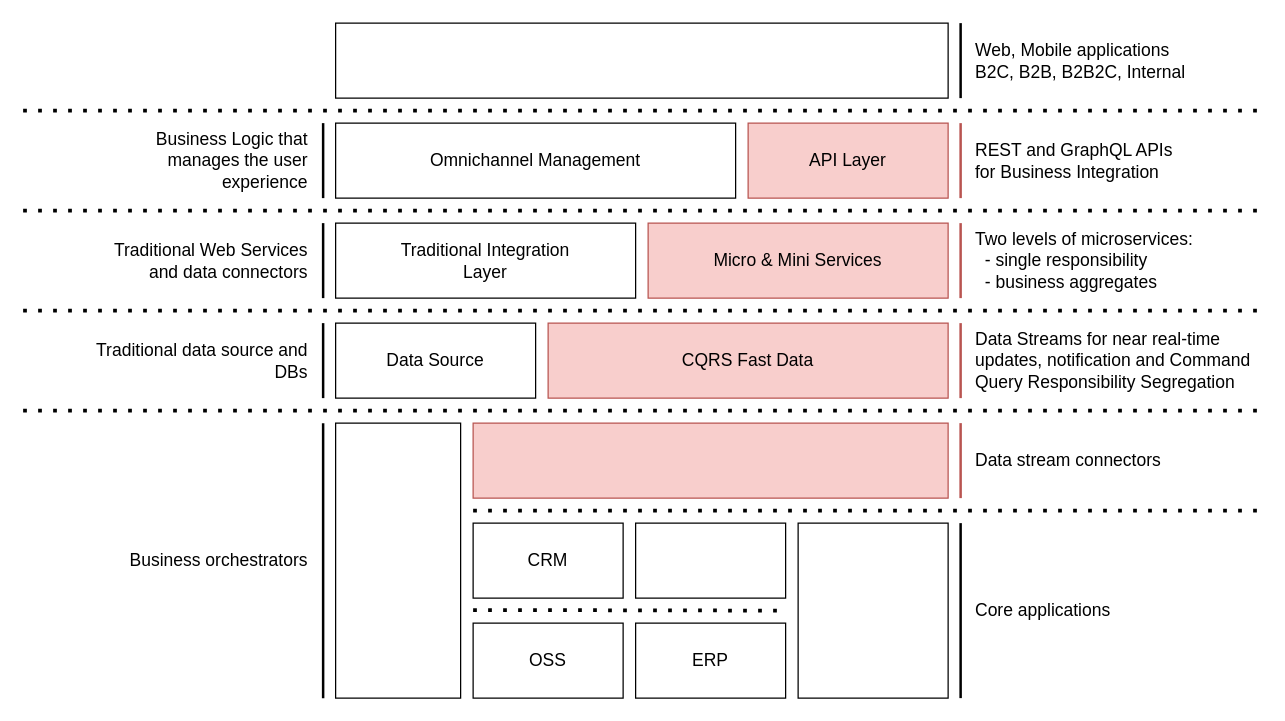
The diagram is 1285 pixels wide and 721 high, and some of its shapes have lost their labels. Each missing label, with the box of its shape:
BI: (797, 522, 948, 698)
Billing: (634, 522, 786, 598)
Connectors / Adapters / Integrations: (472, 422, 948, 498)
Font-End: (334, 22, 948, 98)
Orchestration: (334, 422, 461, 698)
